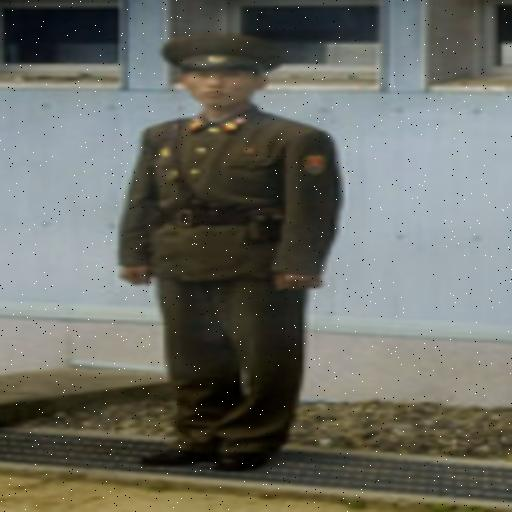north army: (107, 23, 368, 459)
